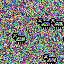sheep: (37, 18, 51, 30), (43, 53, 58, 64), (12, 33, 26, 44), (51, 18, 64, 29)
